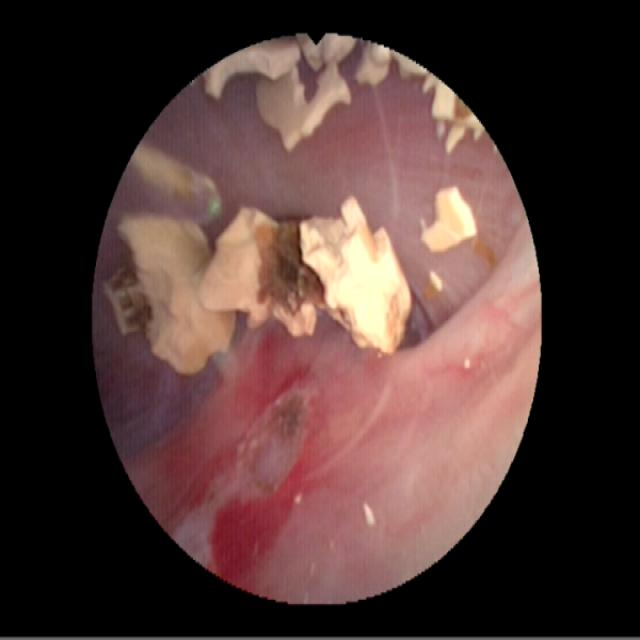stone: (105, 200, 410, 372), (204, 39, 485, 151), (422, 186, 478, 254), (423, 273, 441, 303)
tissue: (97, 162, 537, 593)
